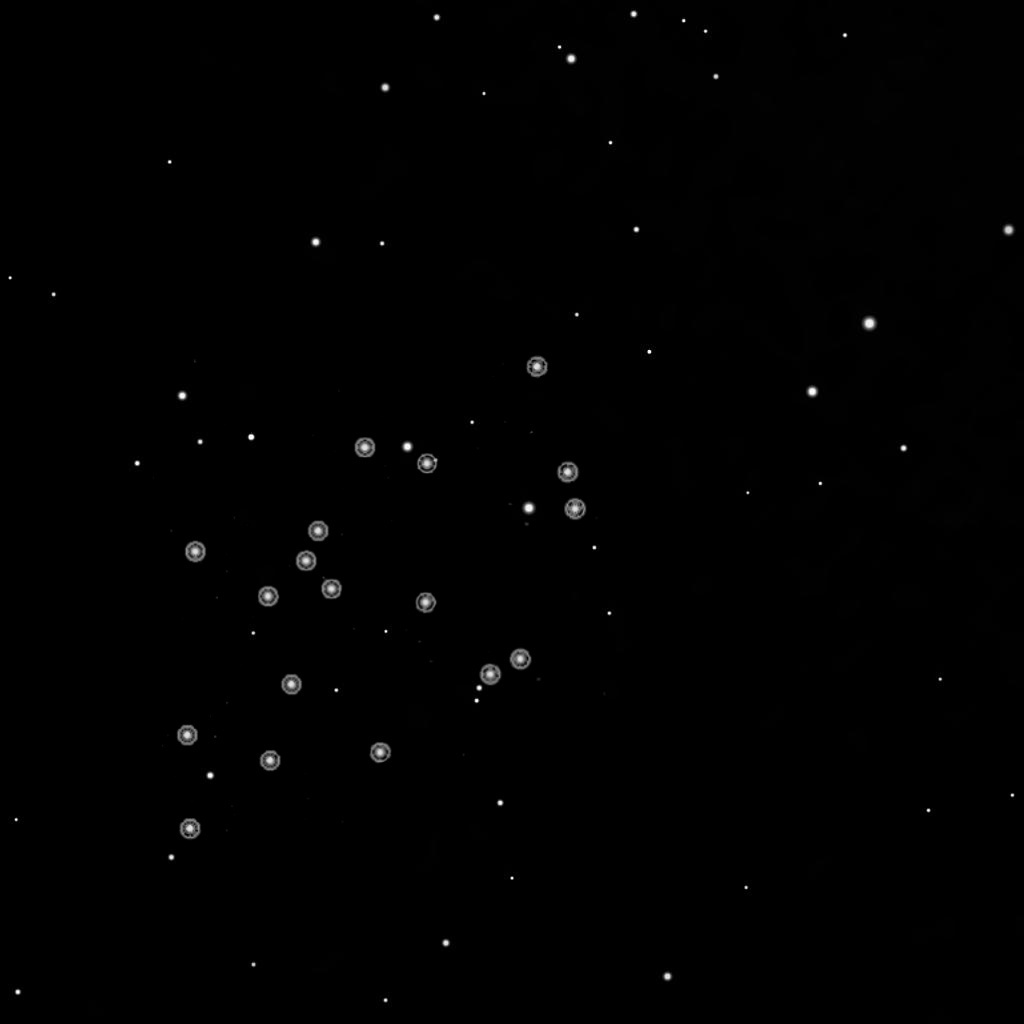canis_major: (252, 431, 440, 614)
